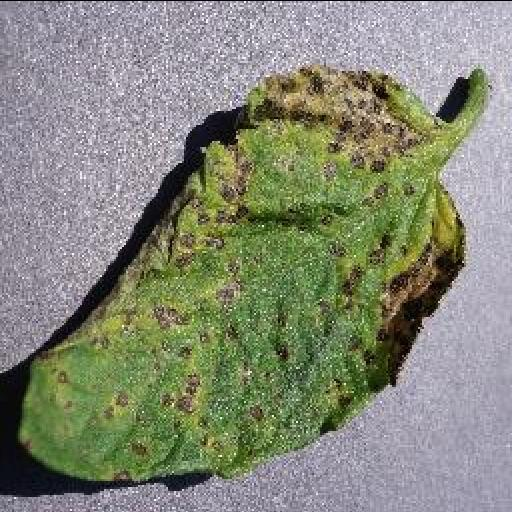disease_tomato: (15, 65, 465, 482)
